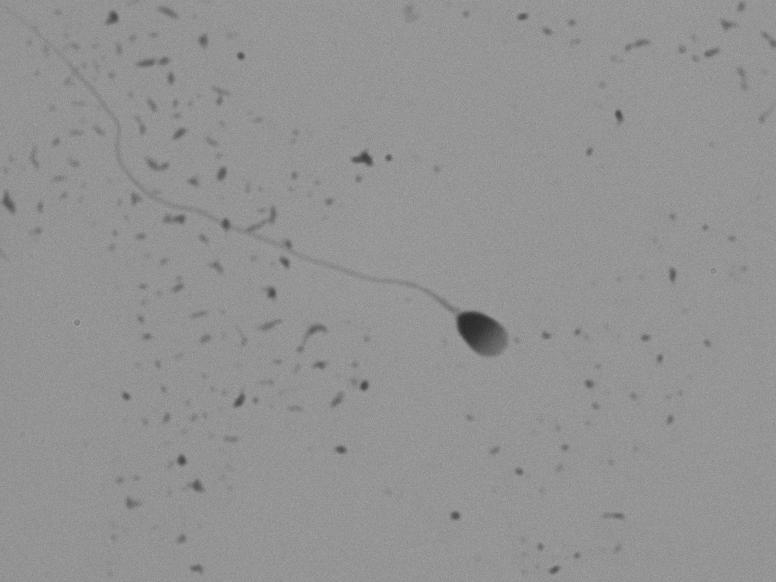Normal: (21, 48, 561, 385)
